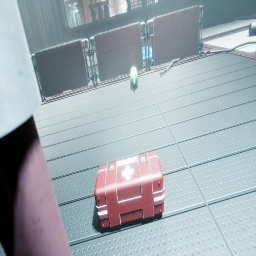0: (131, 67, 138, 87)
FirstAidBox ,: (94, 151, 164, 229)
NitrogenTank ,: (248, 22, 256, 36)
